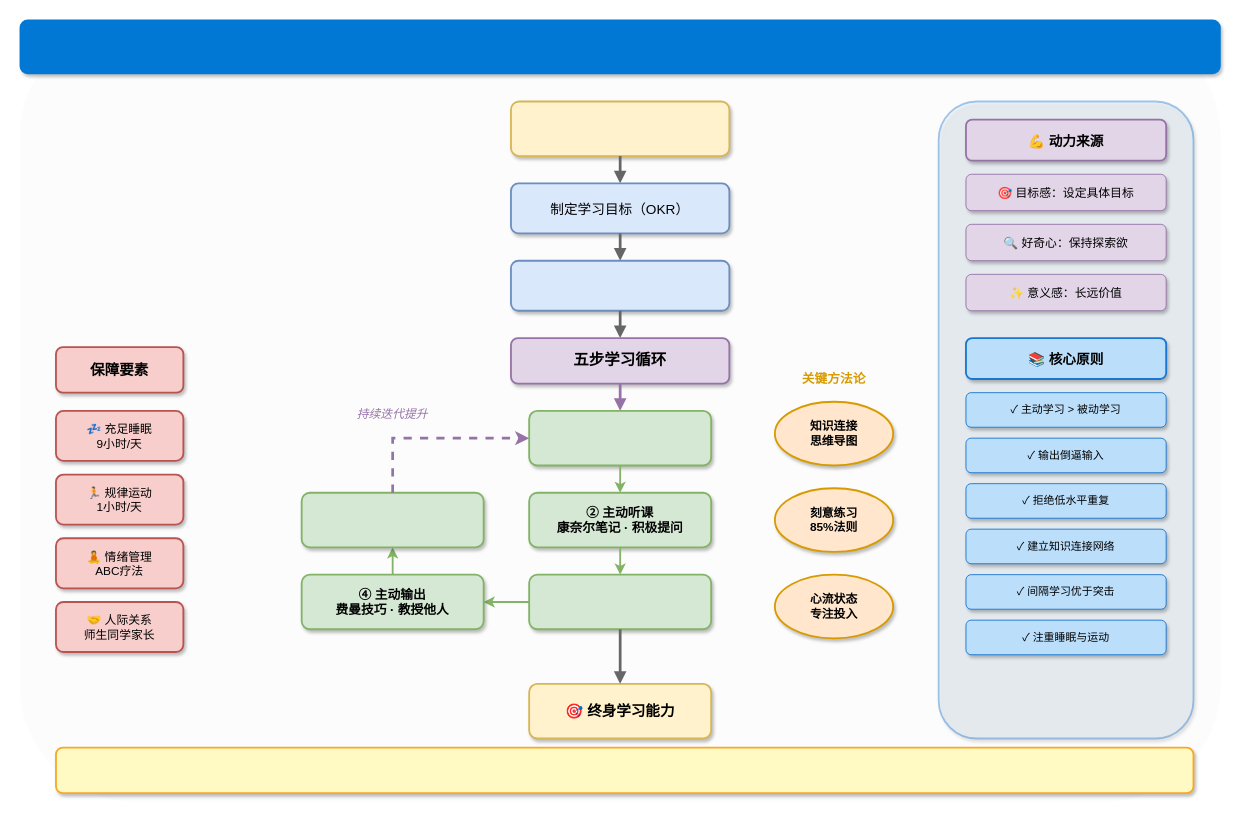
Image size: 1241x817. Some labels were removed from this diagram. The shapes that lost their labels are listed below. From the top down, each one's centre as x and y in pixels, then its label:
At point 620,47: "如何学习流程图".
At point 620,129: "建立成长型思维".
At point 620,287: "时间管理（四象限法则）".
At point 620,439: "① 预习阶段 标记难点 · 制造认知冲突".
At point 393,521: "⑤ 以测代练 错题本 · 反馈改进".
At point 620,603: "③ 间隔复习 检索练习 · 艾宾浩斯曲线".
At point 625,771: "学习是一个系统工程，需要方法论、执行力和持续迭代的结合".
